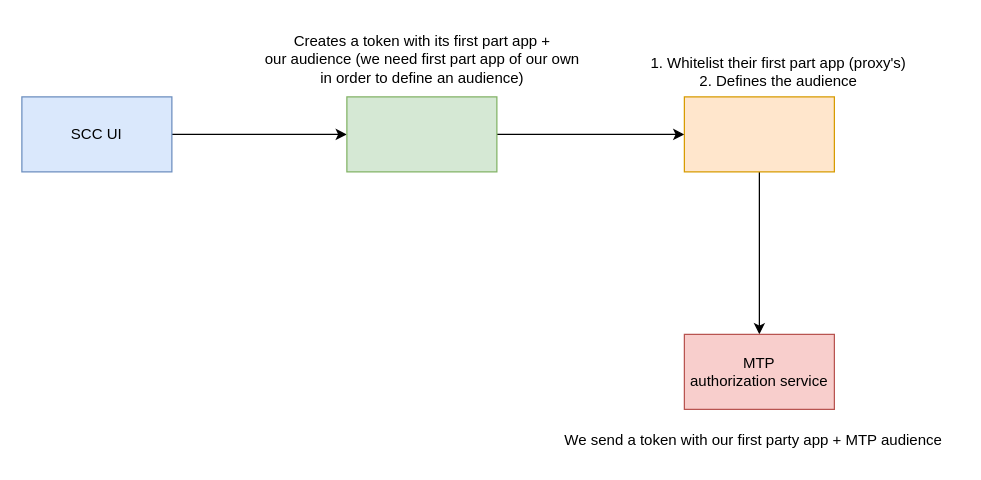
This 981x480 diagram has some shape labels left out. Here are the shapes that lost their labels. From the top down, the box of each, then its label:
(346, 96, 497, 172): Proxy (Nibiru)
(683, 96, 834, 172): Our service
